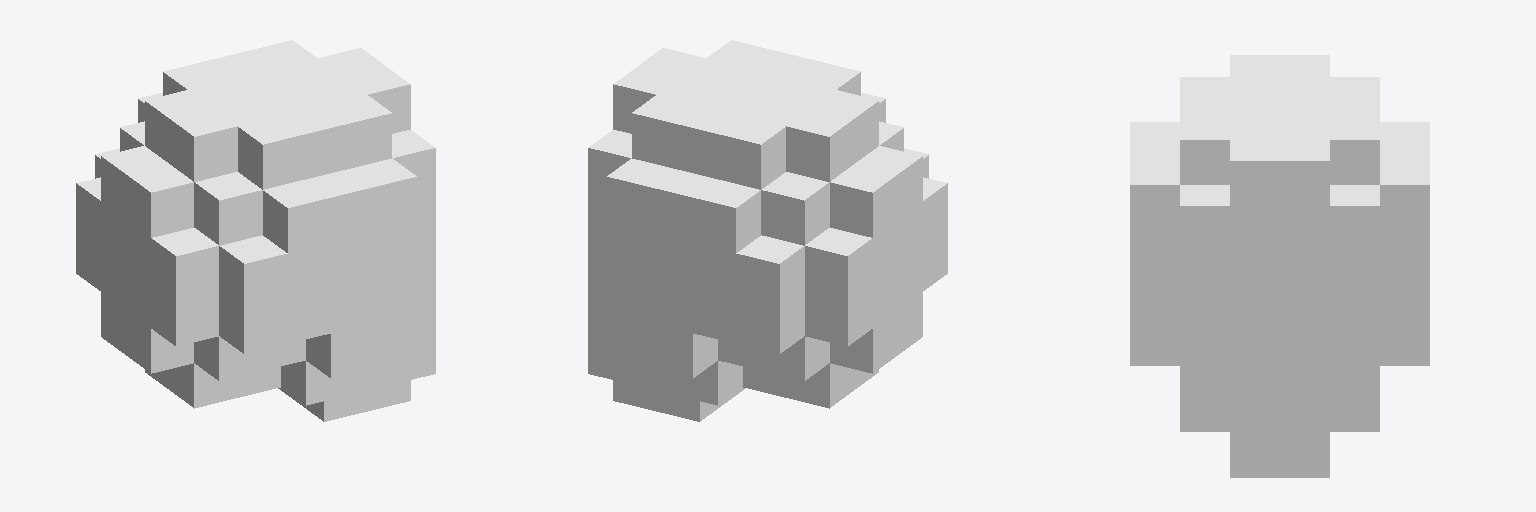
Rendered from Trevor-4.obj.
3 renders of one model, left to right at view 1: azimuth 30°, elevation 25°; view 2: azimuth 150°, elevation 25°; view 3: azimuth 270°, elevation 25°, orthographic.
Parts seen in each view (by area): view 1: object 1; view 2: object 1; view 3: object 1.
Boxes of the visible parts, x1,y1,x2,y2 form: object 1: [76, 40, 435, 421]; object 1: [588, 40, 947, 421]; object 1: [1130, 55, 1429, 477].
Size of the model in its own units: 0.6 by 0.7 by 0.6.